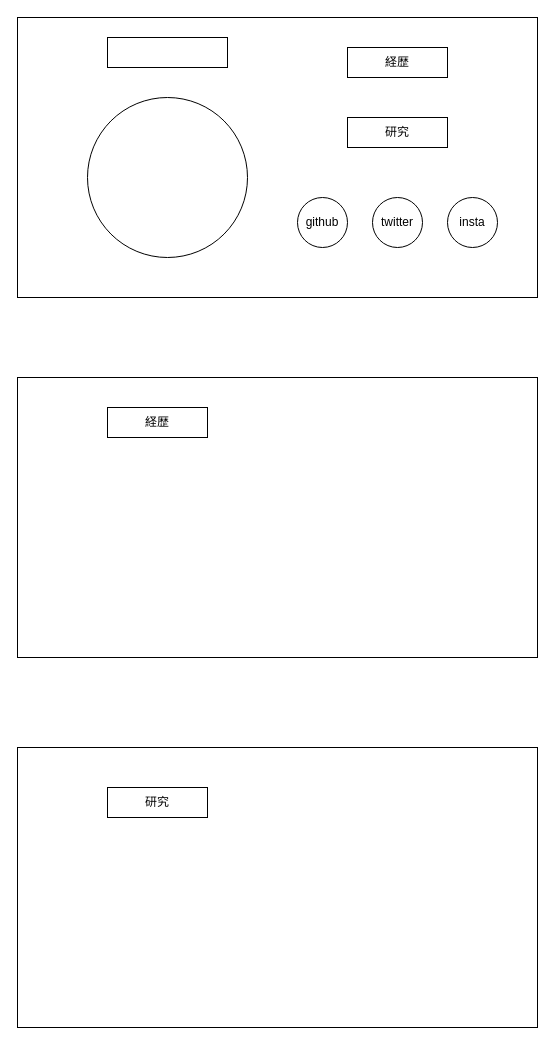
Image size: 555x1045. Some labels were removed from this diagram. Each missing label, with the centre of its shape:
"写真" belongs at pixel 167 177.
"名前" belongs at pixel 167 52.
